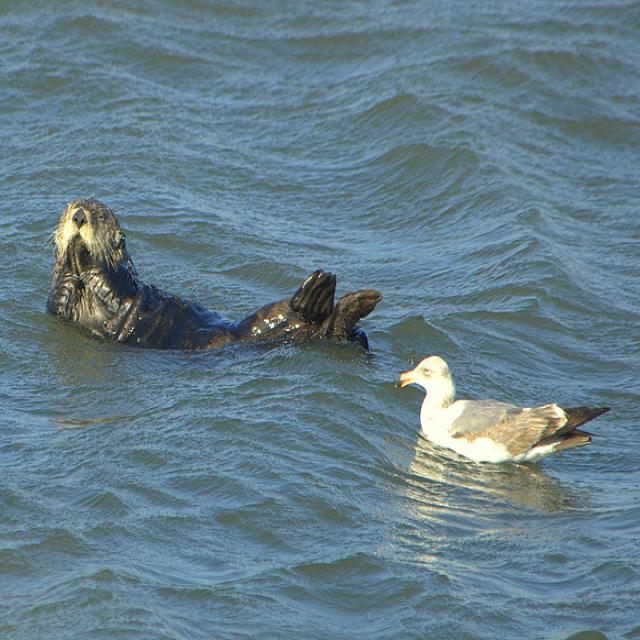otter: (49, 197, 382, 355)
